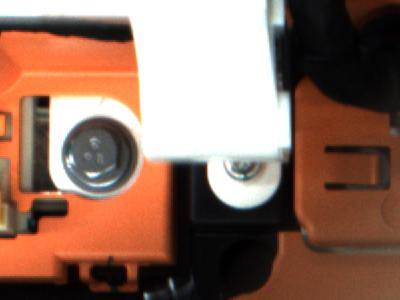nut_b: (57, 114, 138, 190)
